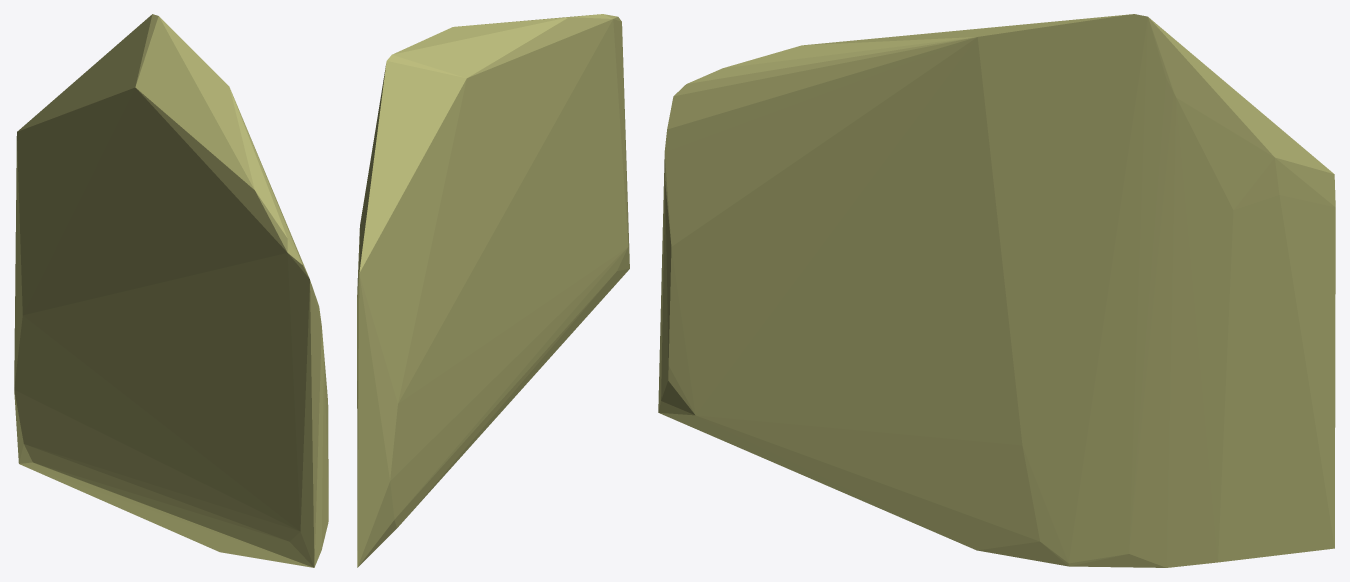
File: bodyPart_door_rear_d01.glb
3 renders of one model, left to right at view 1: azimuth 30°, elevation 25°; view 2: azimuth 150°, elevation 25°; view 3: azimuth 270°, elevation 25°, orthographic. The views are drawn at different scales.
Visible parts, largest first — view 1: geometry_0; view 2: geometry_0; view 3: geometry_0.
Boxes of the visible parts, bbox=[...] form: geometry_0: bbox=[14, 14, 328, 567]; geometry_0: bbox=[357, 14, 629, 567]; geometry_0: bbox=[658, 14, 1335, 567].
Size of the model in its own units: 0.0663 by 0.4385 by 0.4788.
